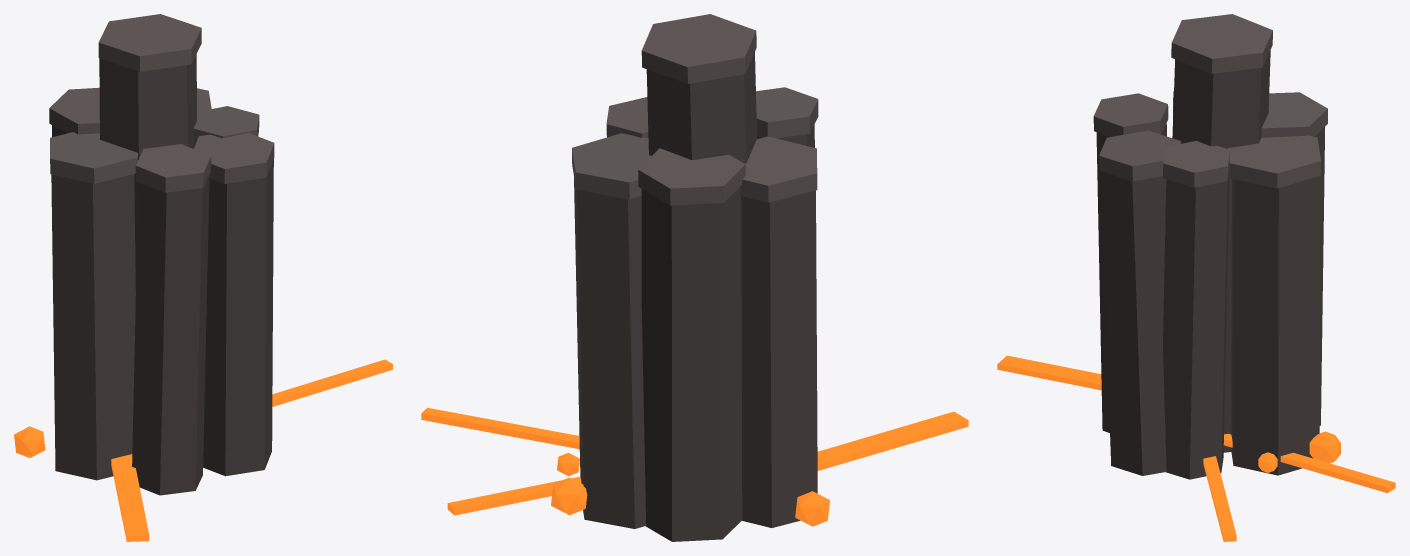
The model's file is runtime.glb.
3 views of the same model, side by side, from view 1: azimuth 30°, elevation 25°; view 2: azimuth 150°, elevation 25°; view 3: azimuth 270°, elevation 25° (orthographic). The views are drawn at different scales.
Parts seen in each view (by area): view 1: magma_outcrop_basalt_nocol, magma_outcrop_cap_noshadow_nocol, magma_outcrop_lava_noshadow_nocol; view 2: magma_outcrop_basalt_nocol, magma_outcrop_cap_noshadow_nocol, magma_outcrop_lava_noshadow_nocol; view 3: magma_outcrop_basalt_nocol, magma_outcrop_cap_noshadow_nocol, magma_outcrop_lava_noshadow_nocol.
Part boxes in pixels (x1,y1,x2,y2): magma_outcrop_basalt_nocol: [51, 54, 273, 495]; magma_outcrop_cap_noshadow_nocol: [49, 14, 274, 192]; magma_outcrop_lava_noshadow_nocol: [14, 359, 392, 541]; magma_outcrop_basalt_nocol: [574, 52, 817, 541]; magma_outcrop_cap_noshadow_nocol: [572, 14, 818, 205]; magma_outcrop_lava_noshadow_nocol: [421, 407, 968, 526]; magma_outcrop_basalt_nocol: [1096, 50, 1325, 479]; magma_outcrop_cap_noshadow_nocol: [1093, 14, 1327, 188]; magma_outcrop_lava_noshadow_nocol: [997, 355, 1395, 541].
Bounding box in the file's own units: 4.11 × 4.28 × 3.82.
